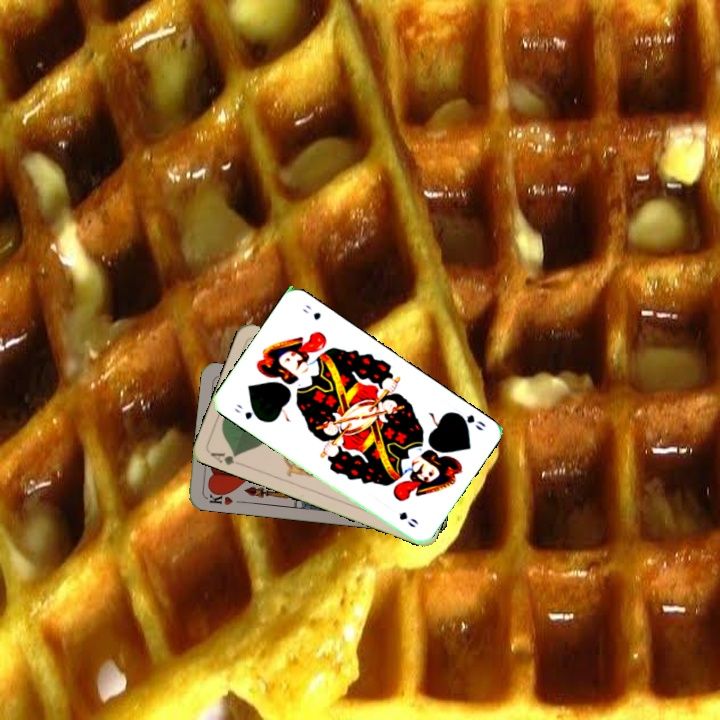GA: (206, 448, 241, 468)
GO: (450, 408, 489, 433), (231, 400, 264, 423)
HK: (202, 487, 235, 508)
